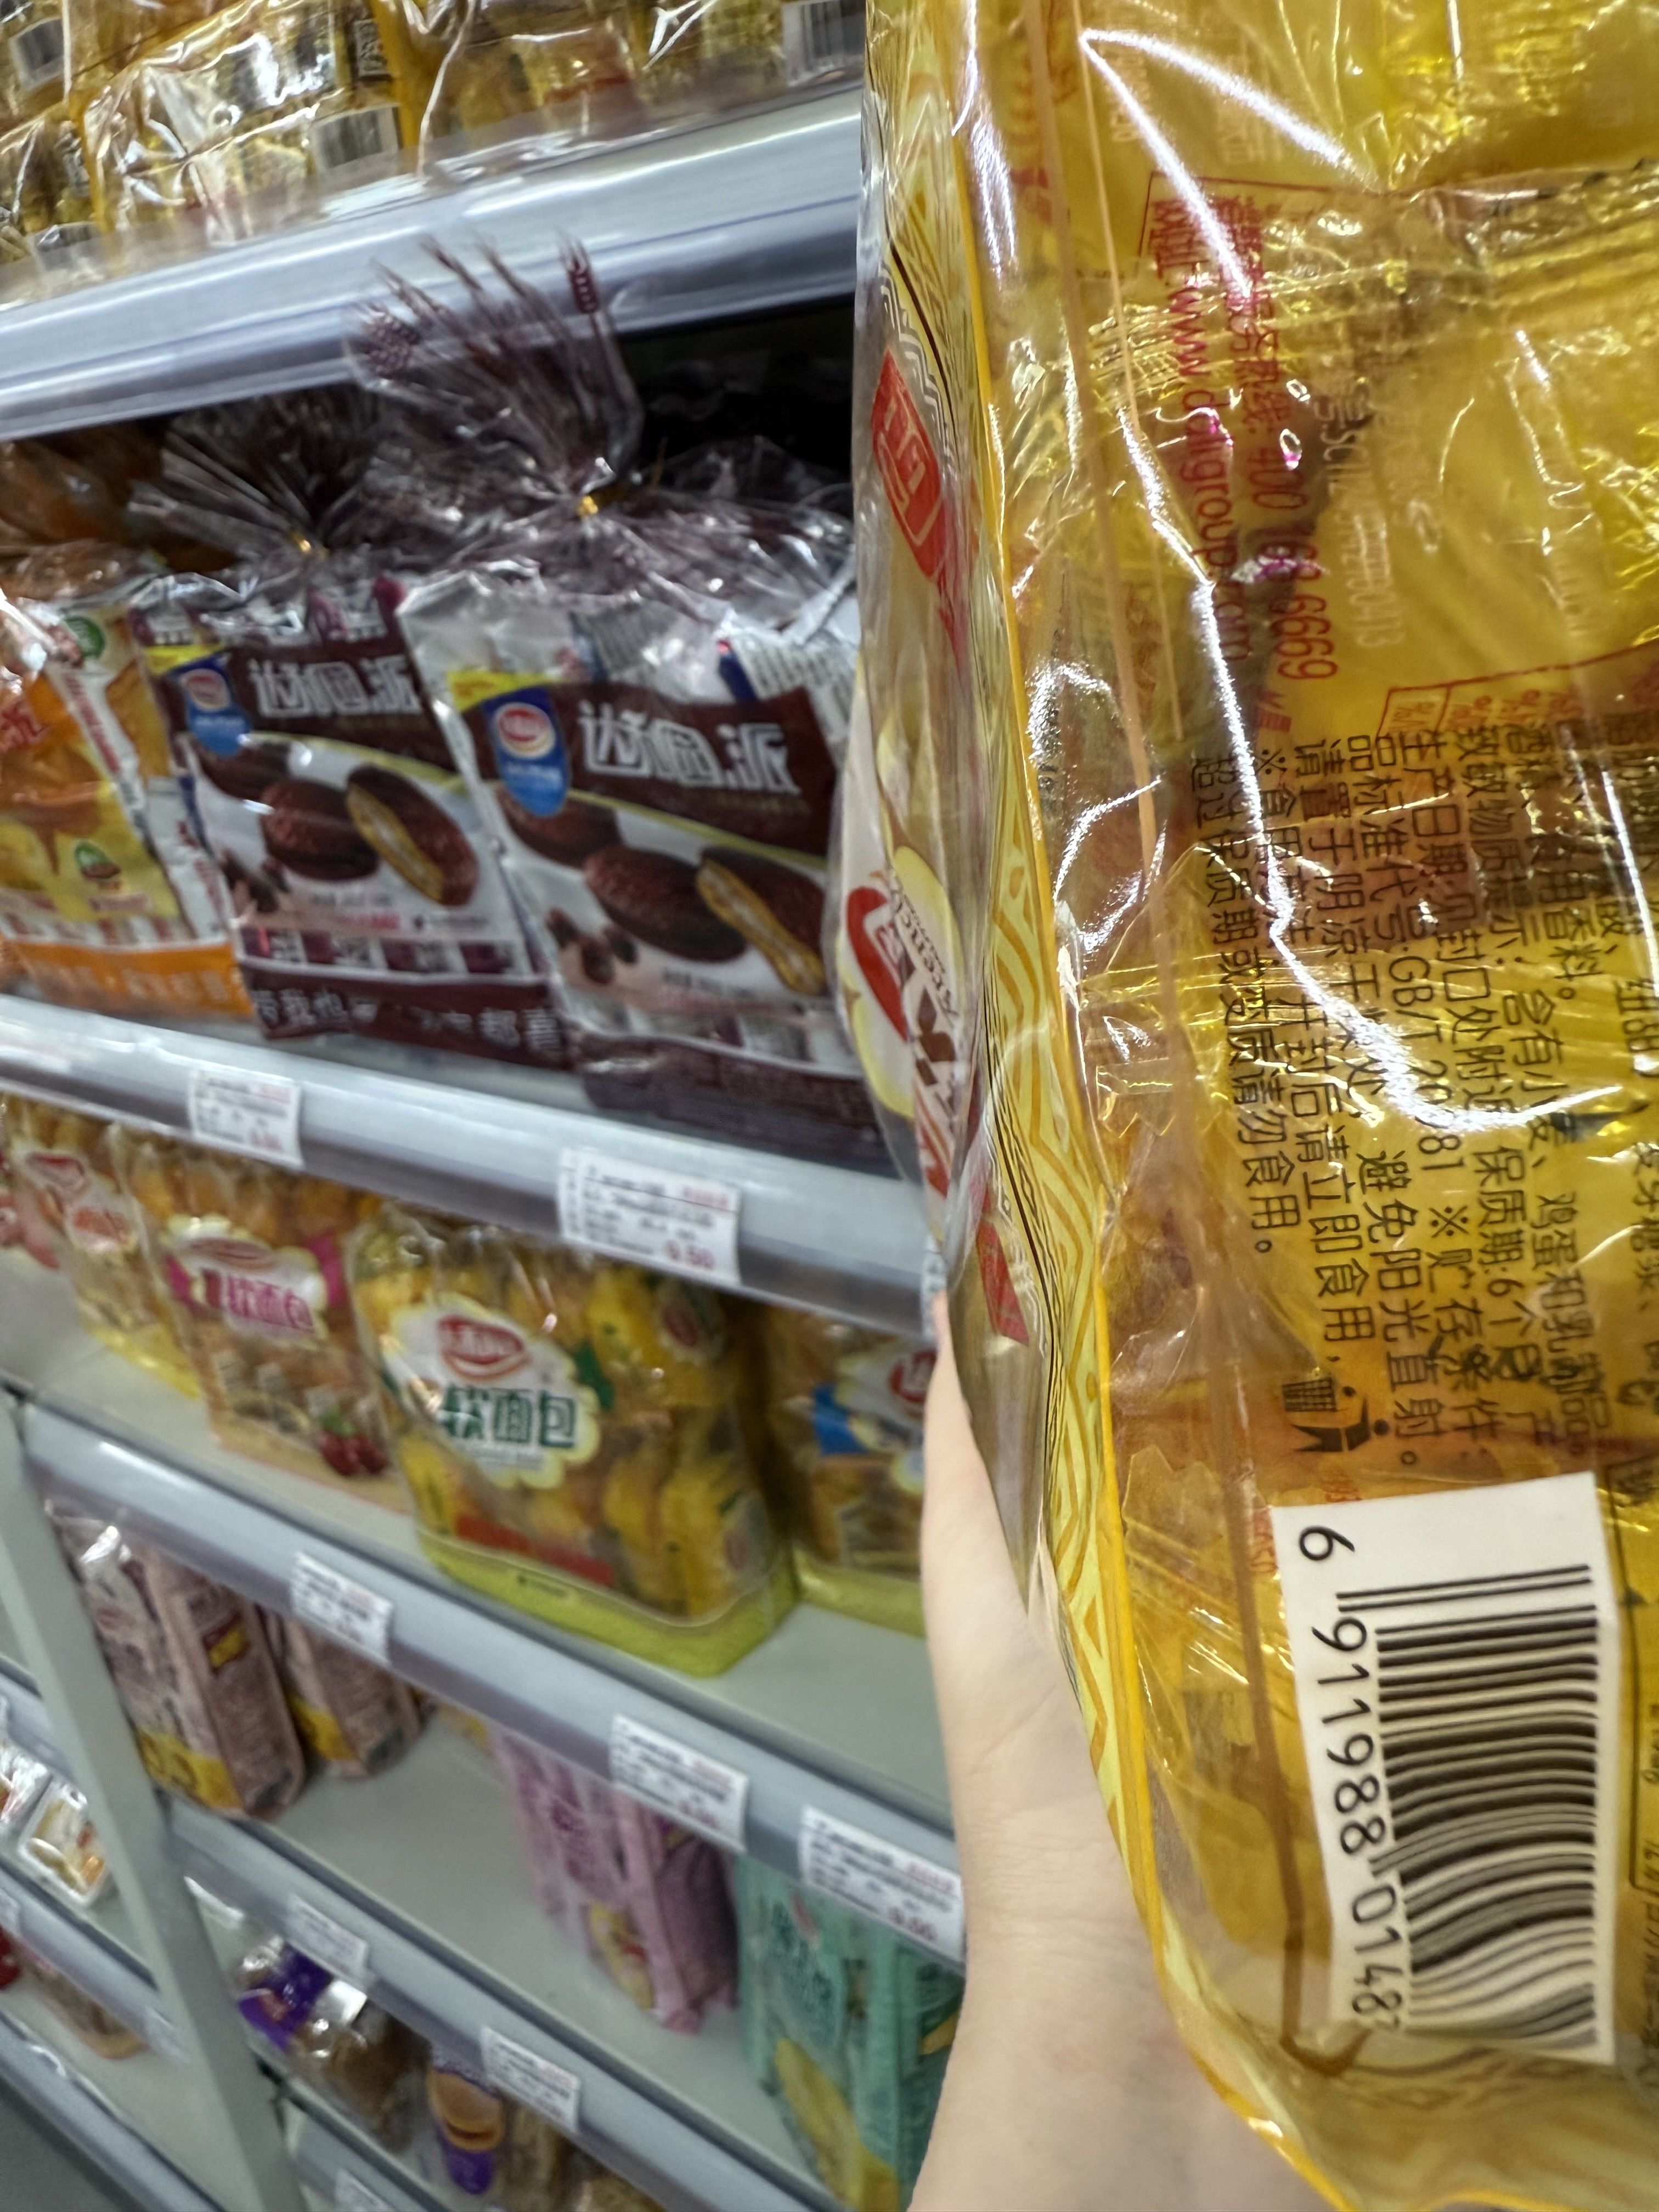bar: (1319, 1557, 1614, 2069)
